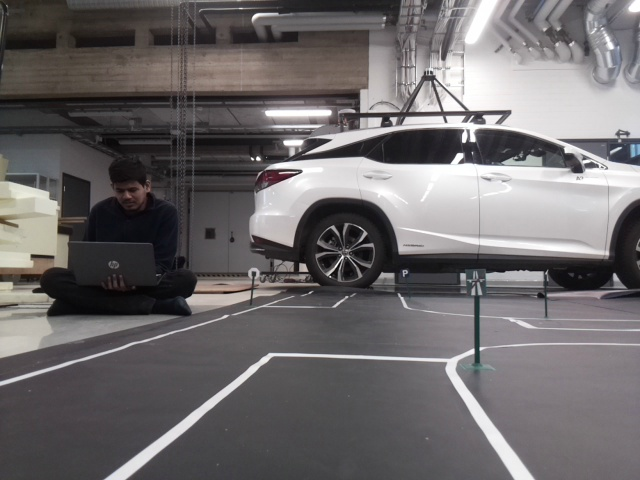HighwayExit: (466, 269, 486, 294)
Parking: (401, 269, 408, 277)
